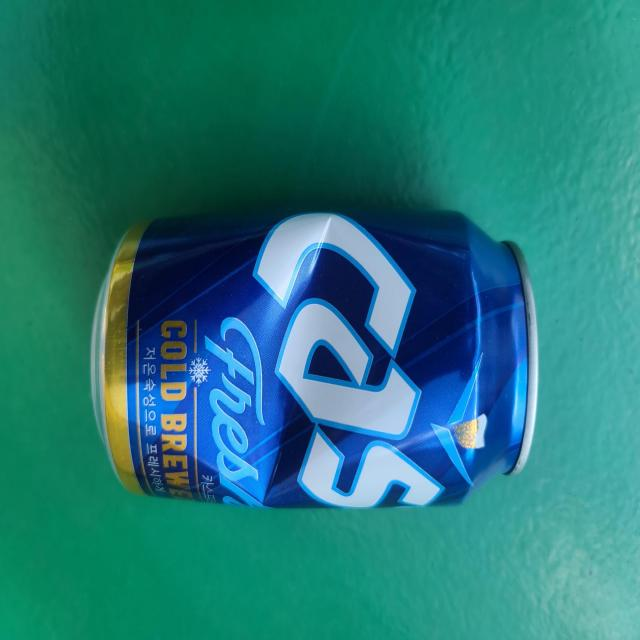can: (91, 209, 539, 508)
